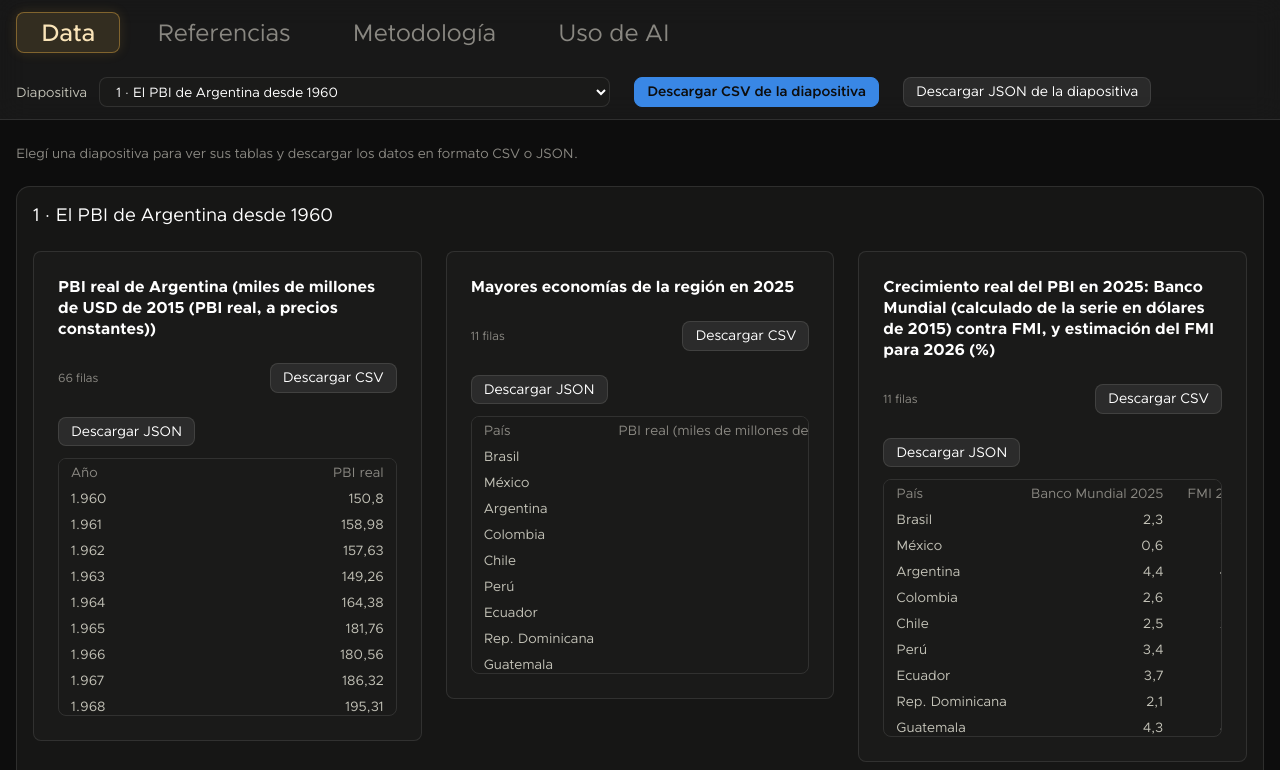
Test: the Data page › shows only the tables of the chosen slide, not those of the others
The width and height of the screenshot is (1280, 770).
Expected: the heading "10 · Productividad" is not shown
Expected: the table "PTF, índice 1955 = 100" is not shown
Select "10 · Productividad" in the dropdown labelled "Diapositiva" at (355, 92), box [99,77,610,107]
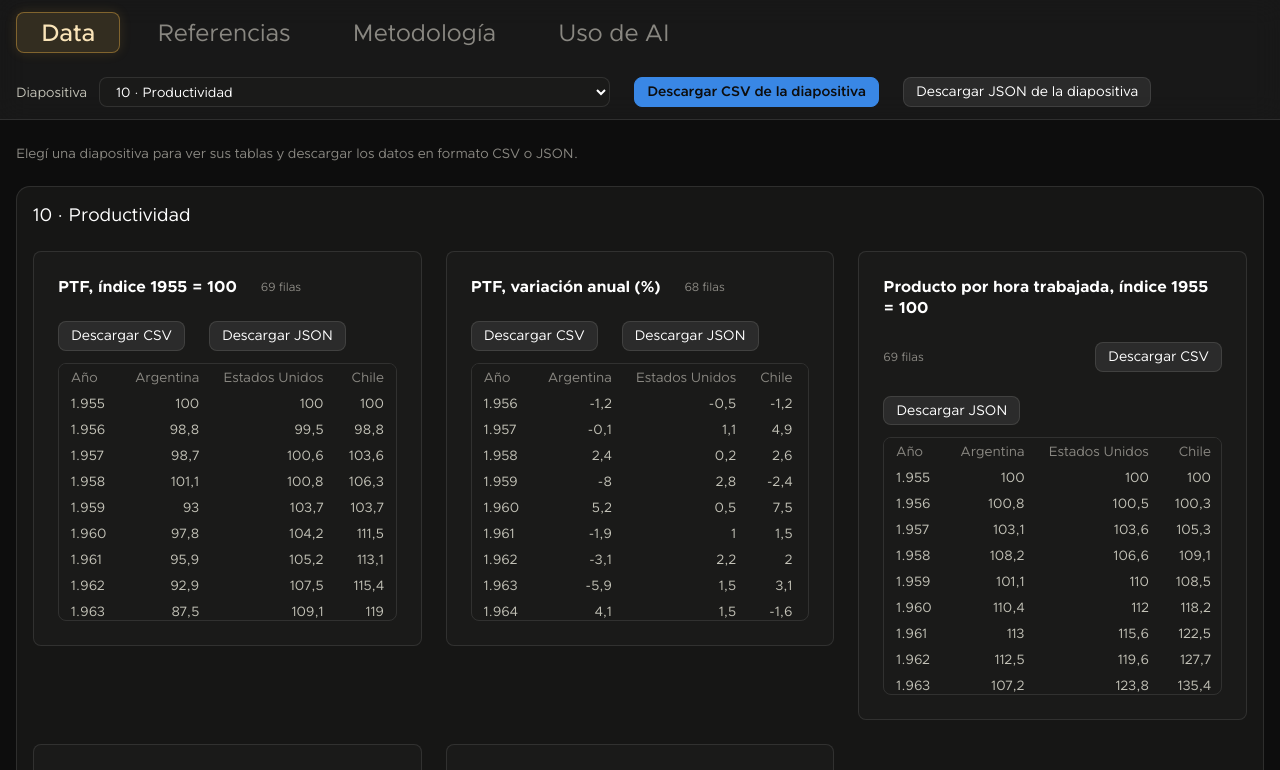
Now the heading "10 · Productividad" is shown, box [33,203,191,227]
Now the heading "1 · El PBI de Argentina desde 1960" is gone
Select "9 · Composición del PBI y exportaciones por complejo" in the dropdown labelled "Diapositiva" at (355, 92), box [99,77,610,107]
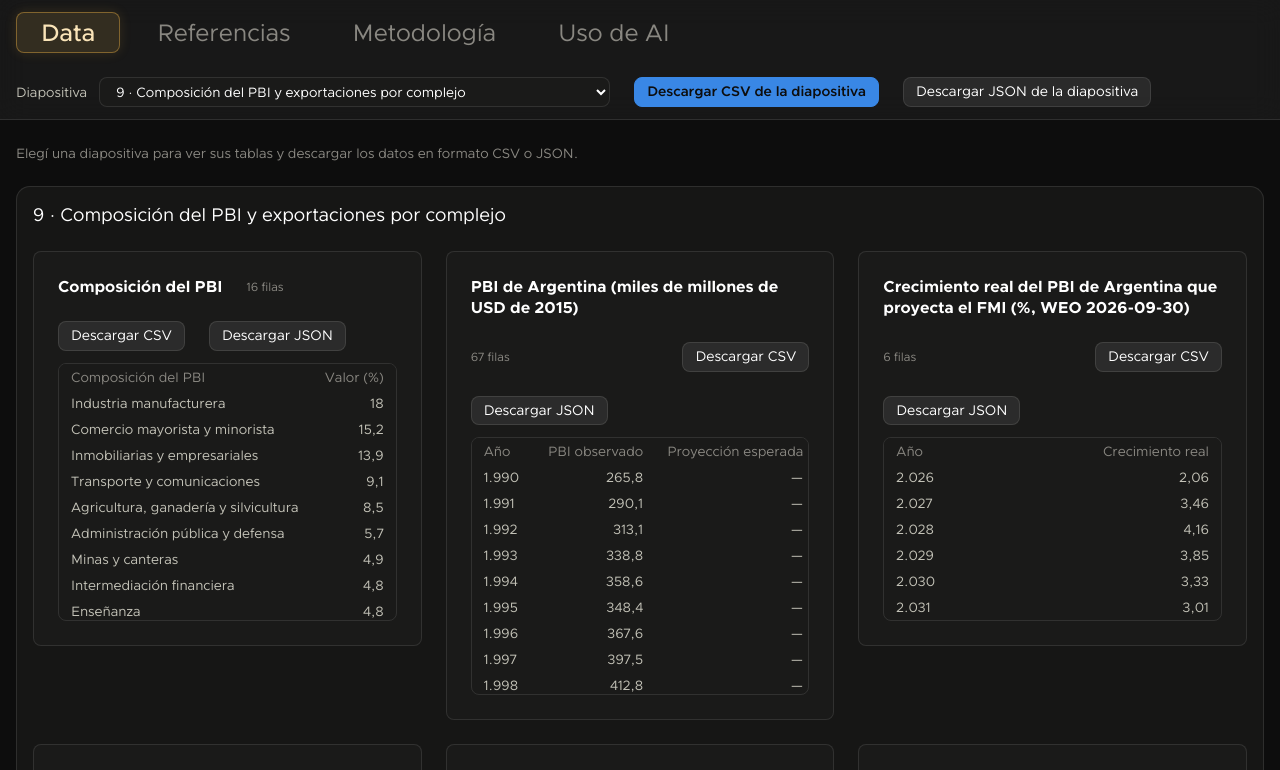
Now the heading reads "9 · Composición del PBI y exportaciones por complejo", box [33,203,506,227]
